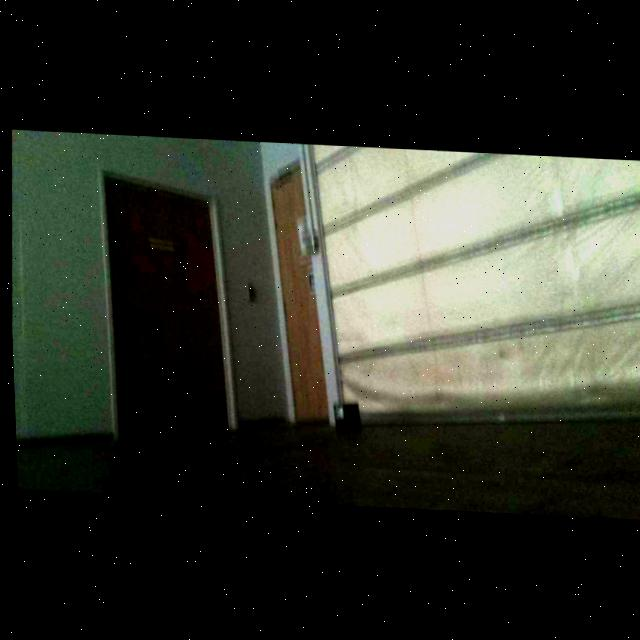E: (333, 407, 338, 417)
